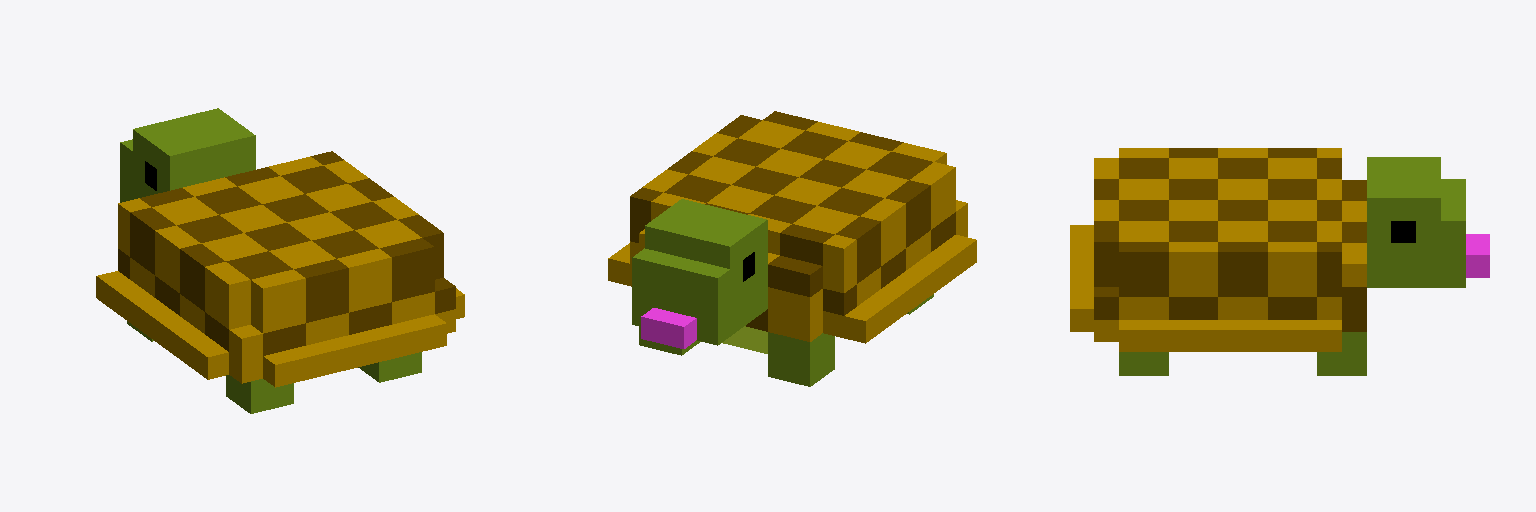
3 views of the same model, side by side, from view 1: azimuth 30°, elevation 25°; view 2: azimuth 150°, elevation 25°; view 3: azimuth 270°, elevation 25° (orthographic).
Size of the model in its own units: 12 by 7 by 17.
1 materials, 1 textured.